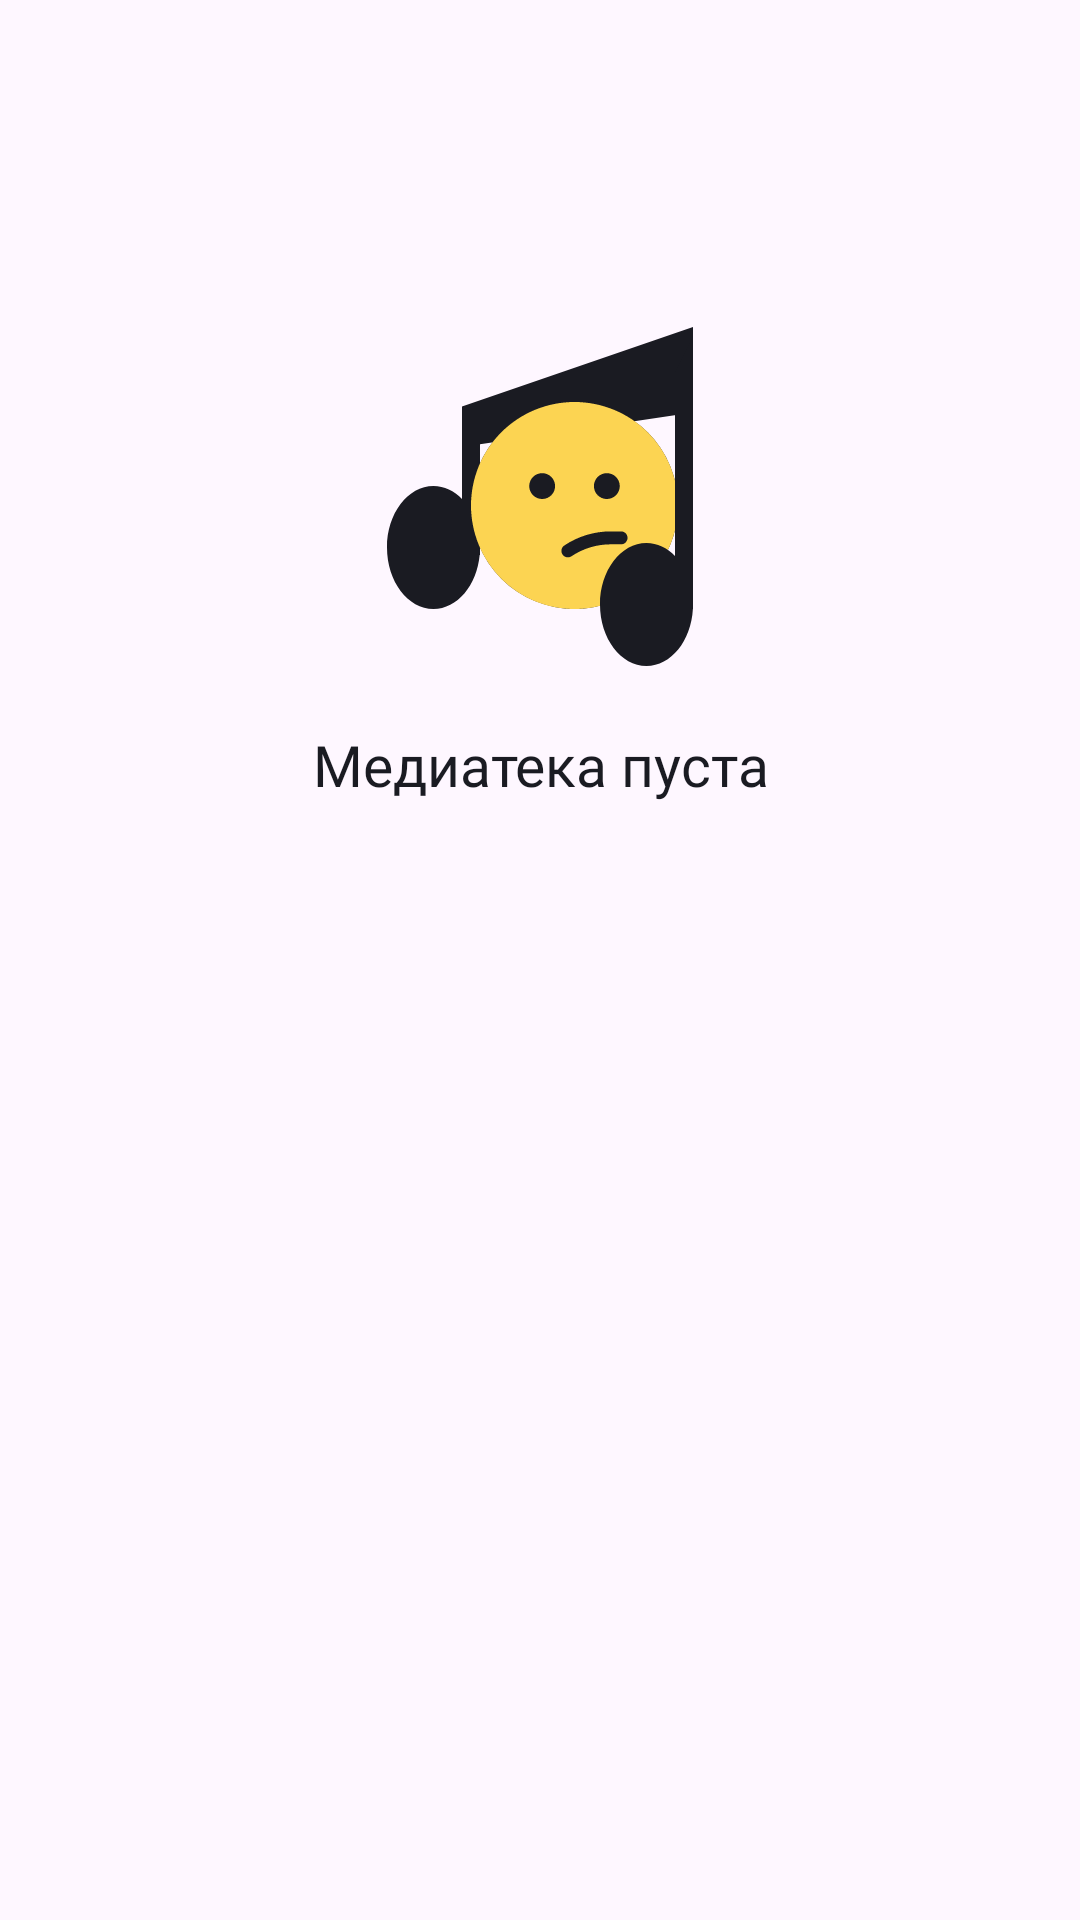

Icons on this 1080 x 1920 Android screen, each with the point to tap as [x,y]:
no track: [540,496]
